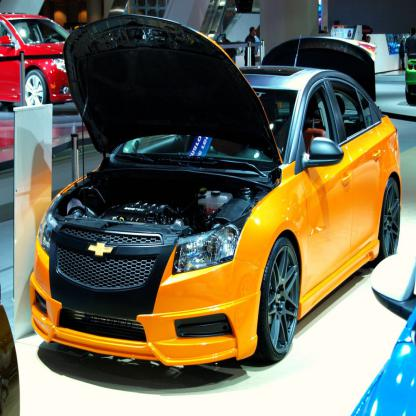Car: (15, 18, 369, 387), (0, 8, 73, 113), (403, 35, 416, 104)
